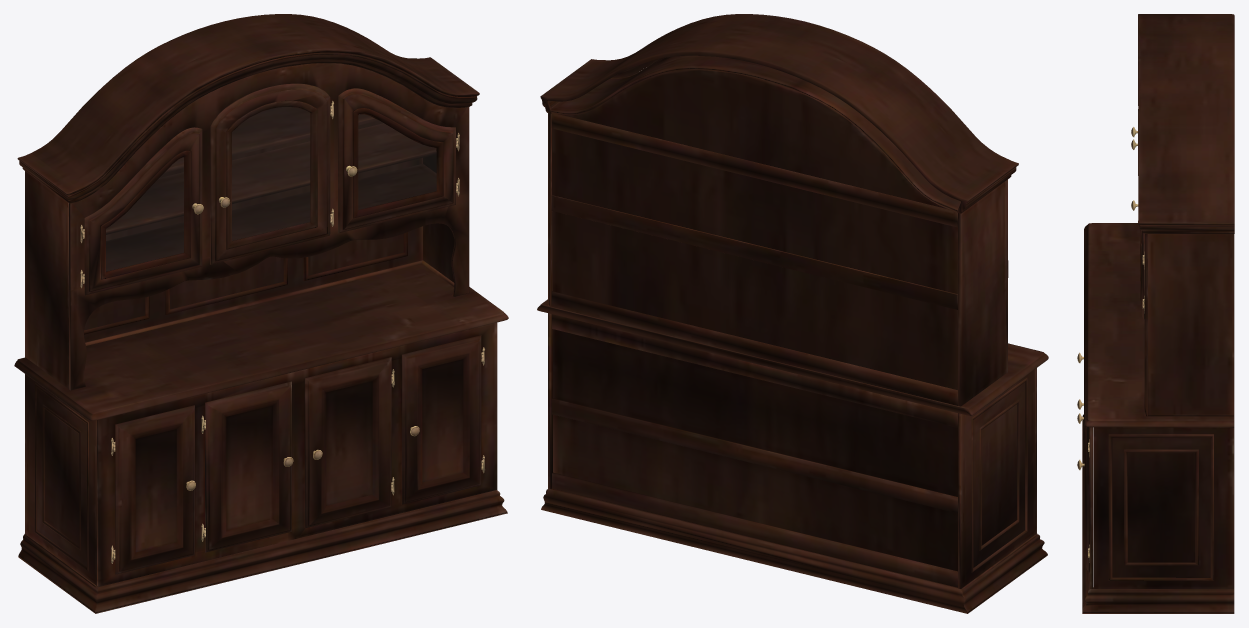
File: vintage_cabinet_01.glb
3 views of the same model, side by side, from view 1: azimuth 30°, elevation 25°; view 2: azimuth 150°, elevation 25°; view 3: azimuth 270°, elevation 25° (orthographic). The views are drawn at different scales.
Parts seen in each view (by area): view 1: vintage_cabinet_01_body, vintage_cabinet_01_door_01; view 2: vintage_cabinet_01_body; view 3: vintage_cabinet_01_body.
Part boxes in pixels (x1=…): vintage_cabinet_01_body: x1=14, y1=14, x2=508, y2=613; vintage_cabinet_01_door_01: x1=106, y1=107, x2=436, y2=271; vintage_cabinet_01_body: x1=537, y1=14, x2=1048, y2=613; vintage_cabinet_01_body: x1=1077, y1=14, x2=1234, y2=613.
Bounding box in the file's own units: 2.02 × 2.24 × 0.6699.
3 materials, 2 textured.
